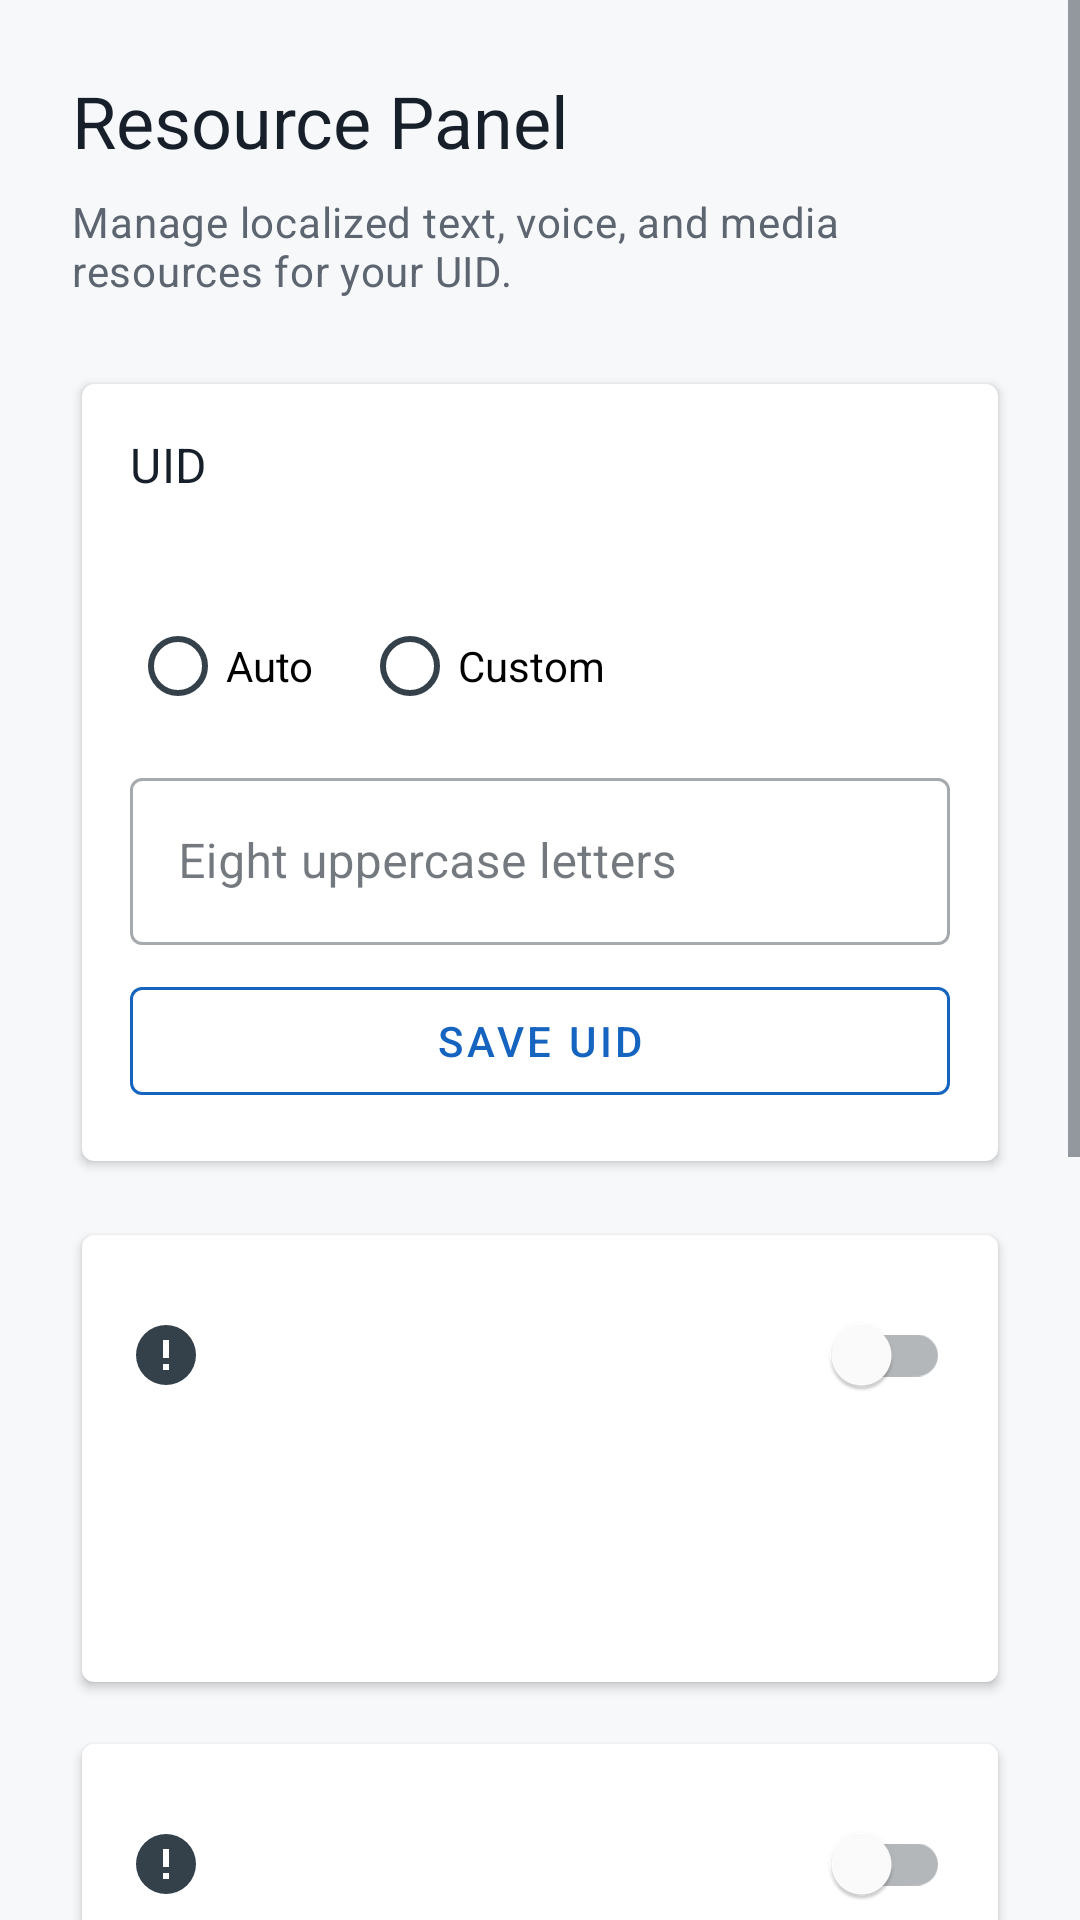

Icons on this 1080w x 1920h Android screen, each with its box as (x1, y1, x2, y2):
status info: (136, 1325, 196, 1385), (136, 1834, 196, 1894)
